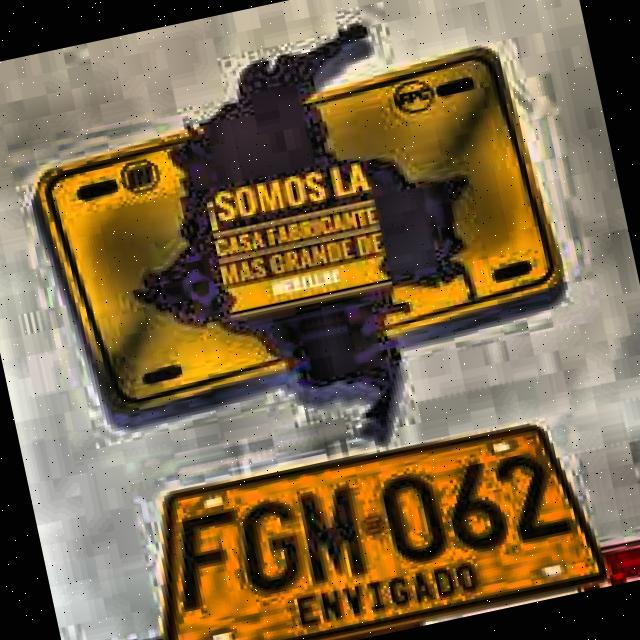plate: (170, 427, 605, 640)
